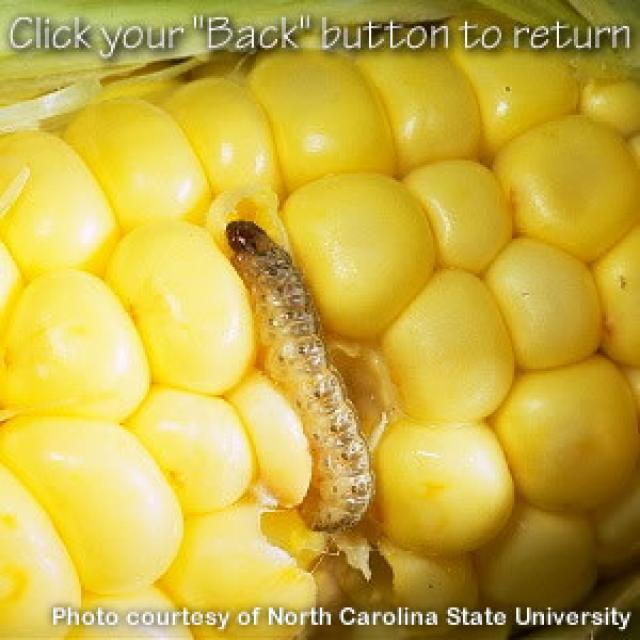cornborer-Larva-: (213, 210, 388, 532)
